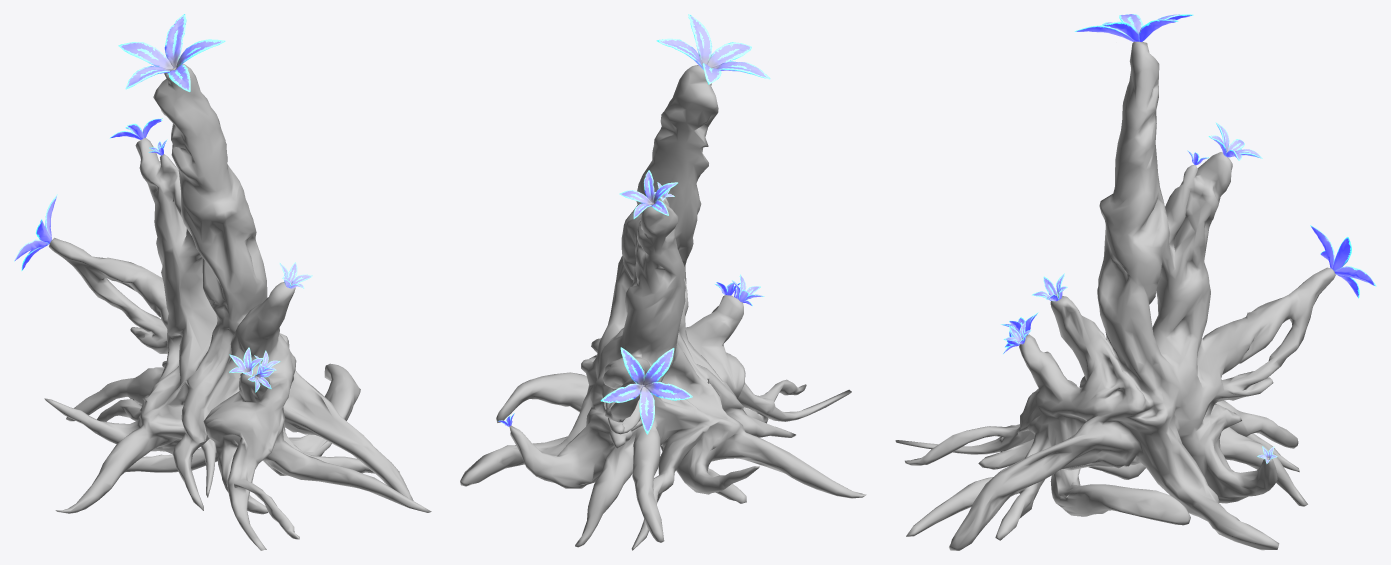
File: SM_Tree_B2.fbx
The picture shows the model from 3 angles, left to right: view 1: azimuth 30°, elevation 25°; view 2: azimuth 150°, elevation 25°; view 3: azimuth 270°, elevation 25°; orthographic projection. The views are drawn at different scales.
Visible parts, largest first — view 1: SM_Tree_B2_0_LOD0; view 2: SM_Tree_B2_0_LOD0; view 3: SM_Tree_B2_0_LOD0.
Boxes of the visible parts, left/top/right/bottom form: SM_Tree_B2_0_LOD0: left=14, top=14, right=431, bottom=550; SM_Tree_B2_0_LOD0: left=460, top=14, right=866, bottom=550; SM_Tree_B2_0_LOD0: left=895, top=14, right=1376, bottom=550.
Bounding box in the file's own units: 447 × 553 × 604.
